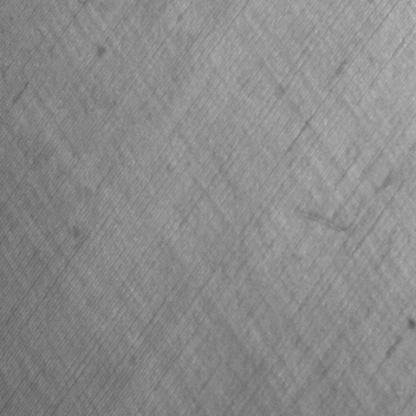objects: (298, 170, 415, 236)
